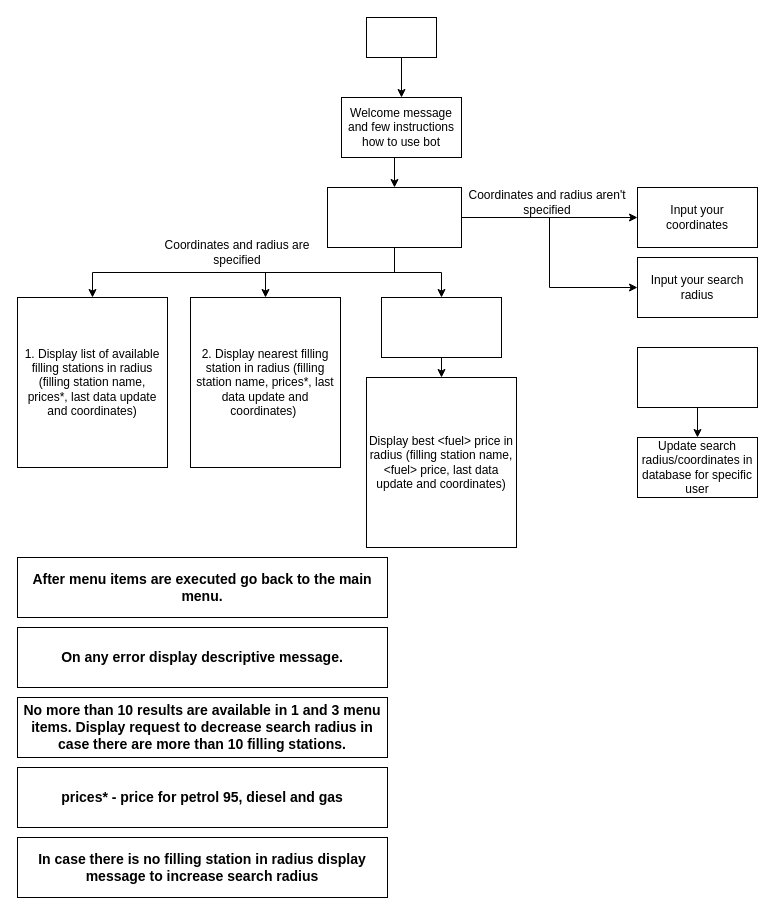
Image size: 775x915. Some labels were removed from this diagram. The centre of each missing label's shape, as x and y in pixels:
/start: (x=401, y=37)
FUEL TYPE MENU 1. Petrol 2. Diesel 3.Gas: (x=441, y=327)
MAIN MENU: 1. All filling stations 2. Nearest filling station 3.Best fuel price: (x=394, y=217)
User sent number (double) or geolacation: (x=697, y=377)
